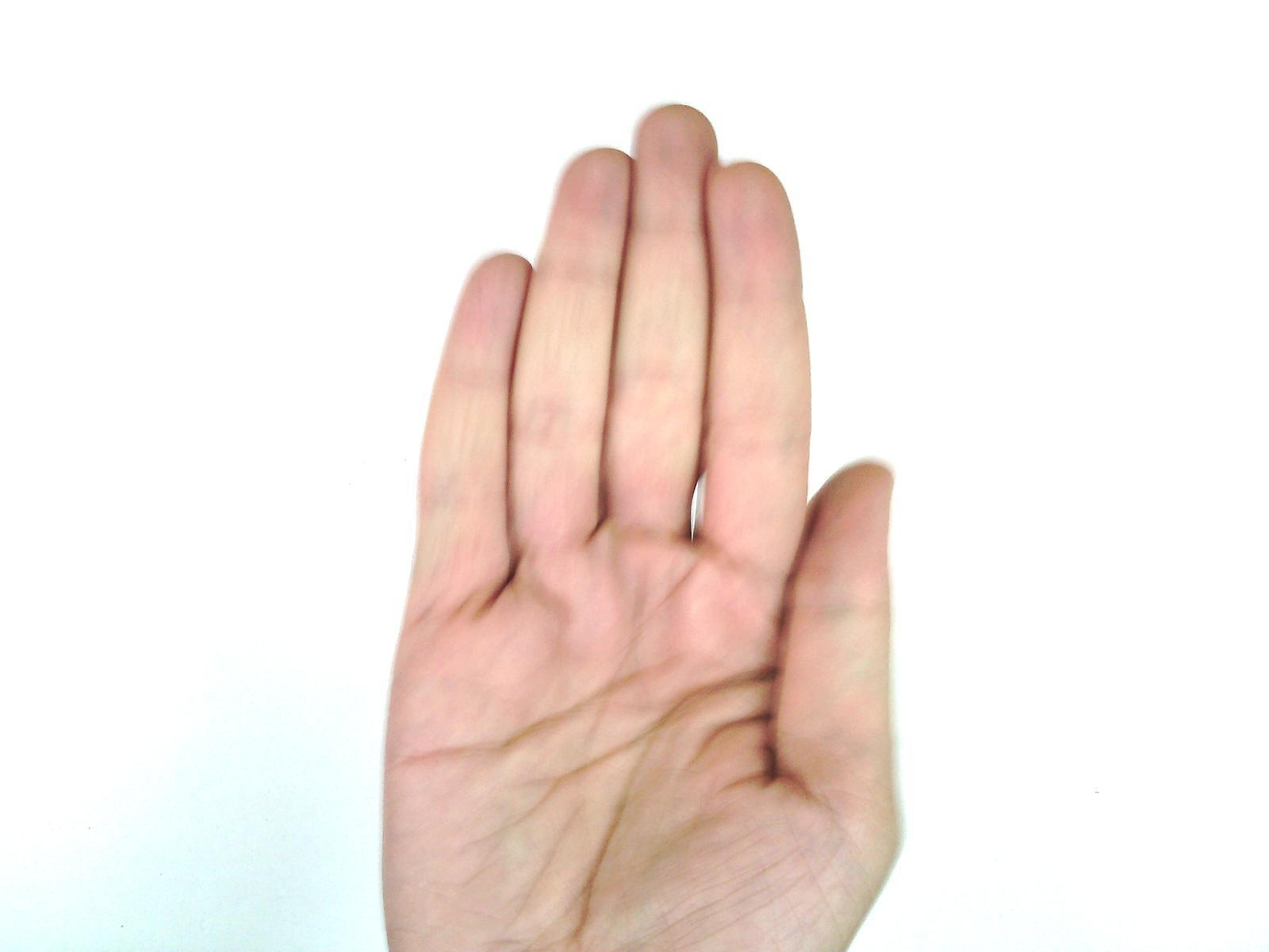open_palm: (377, 103, 907, 951)
